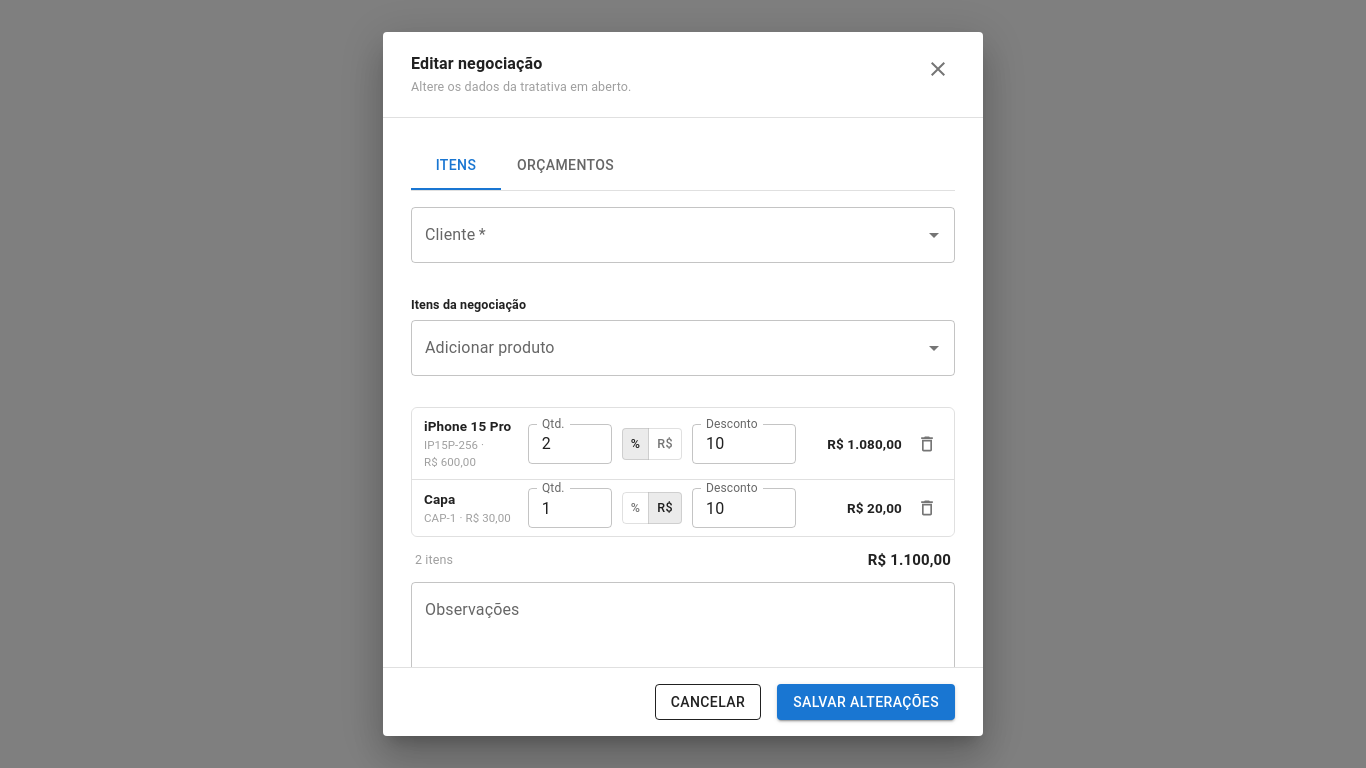
NegotiationFormModal — aba Orçamentos (spec 011, ticket 02) › parte do total à vista dos itens salvos, já com os descontos
Click the tab "Orçamentos": x=566, y=166 [501, 142, 630, 190]
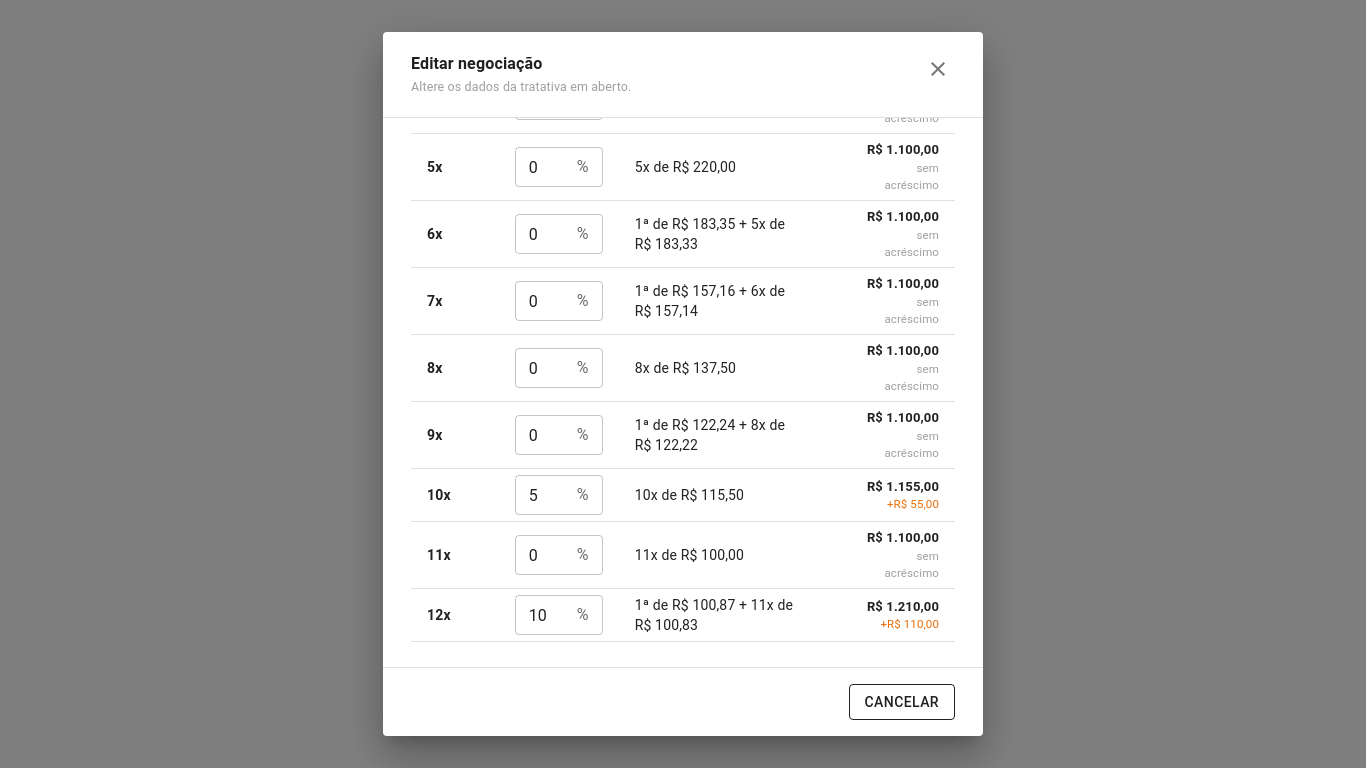
Now the text "10x de R$ 115,50" is shown, box [619, 469, 845, 522]
